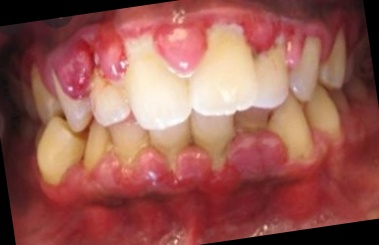Gingivitis: (36, 166, 330, 245), (53, 36, 98, 94), (163, 18, 210, 69), (239, 9, 282, 54)
